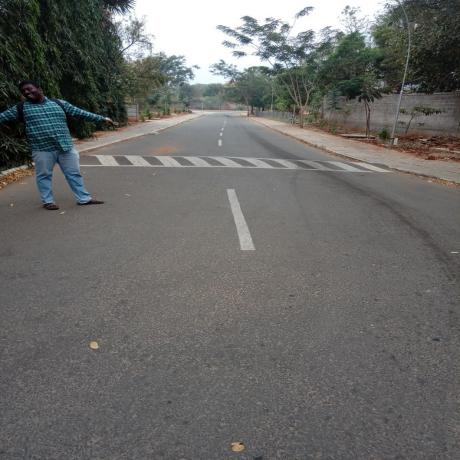Speed Bump: (78, 153, 391, 171)
